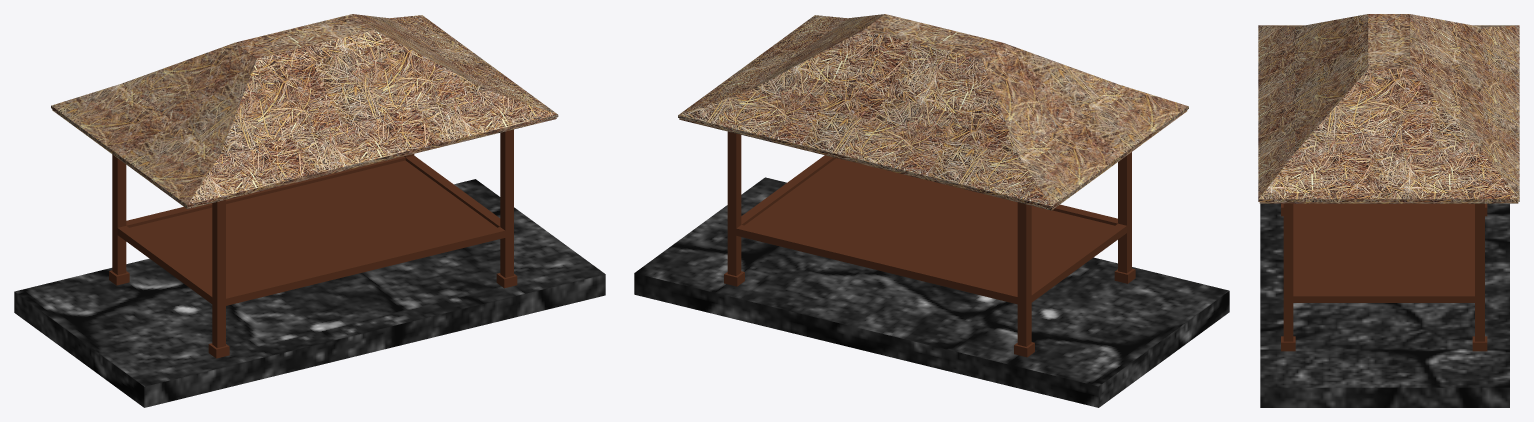
Rendered from Bangunan Lumbung Padi.fbx.
3 renders of one model, left to right at view 1: azimuth 30°, elevation 25°; view 2: azimuth 150°, elevation 25°; view 3: azimuth 270°, elevation 25°, orthographic. The views are drawn at different scales.
Visible parts, largest first — view 1: Atap Lumbung Padi, Pondasi Lumbung Padi, Tiang Lumbung Padi; view 2: Atap Lumbung Padi, Pondasi Lumbung Padi, Tiang Lumbung Padi; view 3: Atap Lumbung Padi, Pondasi Lumbung Padi, Tiang Lumbung Padi.
Part boxes in pixels (left/top/right/bottom): Atap Lumbung Padi: left=51, top=14, right=558, bottom=208; Pondasi Lumbung Padi: left=14, top=179, right=605, bottom=407; Tiang Lumbung Padi: left=109, top=129, right=517, bottom=358; Atap Lumbung Padi: left=678, top=14, right=1188, bottom=210; Pondasi Lumbung Padi: left=634, top=177, right=1229, bottom=407; Tiang Lumbung Padi: left=724, top=131, right=1135, bottom=357; Atap Lumbung Padi: left=1258, top=14, right=1519, bottom=203; Pondasi Lumbung Padi: left=1260, top=203, right=1509, bottom=407; Tiang Lumbung Padi: left=1281, top=203, right=1487, bottom=351.
Size of the model in its own units: 11.86 by 6.56 by 6.05.
